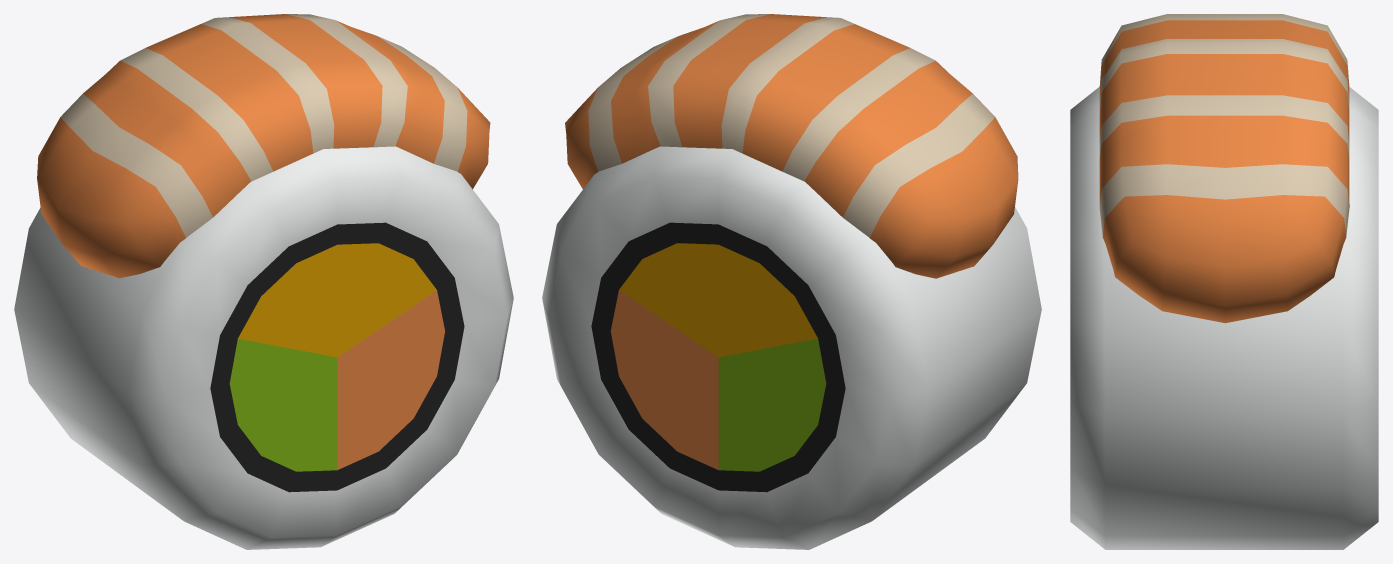
The model's file is quaternius-sushi-restaurant-food-salmonroll.glb.
The picture shows the model from 3 angles, left to right: view 1: azimuth 30°, elevation 25°; view 2: azimuth 150°, elevation 25°; view 3: azimuth 270°, elevation 25°; orthographic projection. The views are drawn at different scales.
Visible parts, largest first — view 1: Food_SalmonRoll; view 2: Food_SalmonRoll; view 3: Food_SalmonRoll.
Boxes of the visible parts, x1,y1,x2,y2 form: Food_SalmonRoll: (14, 14, 513, 549); Food_SalmonRoll: (542, 14, 1041, 549); Food_SalmonRoll: (1070, 14, 1378, 549).
Size of the model in its own units: 0.4655 by 0.4994 by 0.2881.
1 material, 1 textured.
